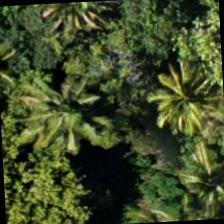Kelapa_Sawit: (74, 76, 169, 171), (140, 47, 223, 143), (161, 139, 223, 221)
